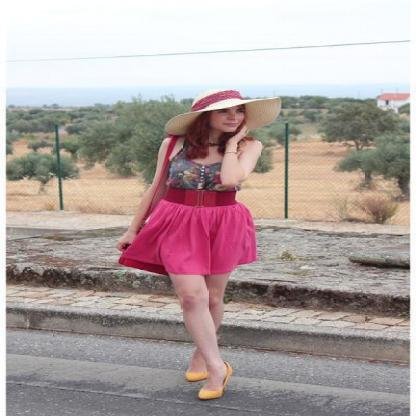hat: (159, 84, 284, 134)
shirt: (159, 158, 226, 191)
shoe: (186, 362, 225, 398)
skirt: (118, 199, 258, 276)
